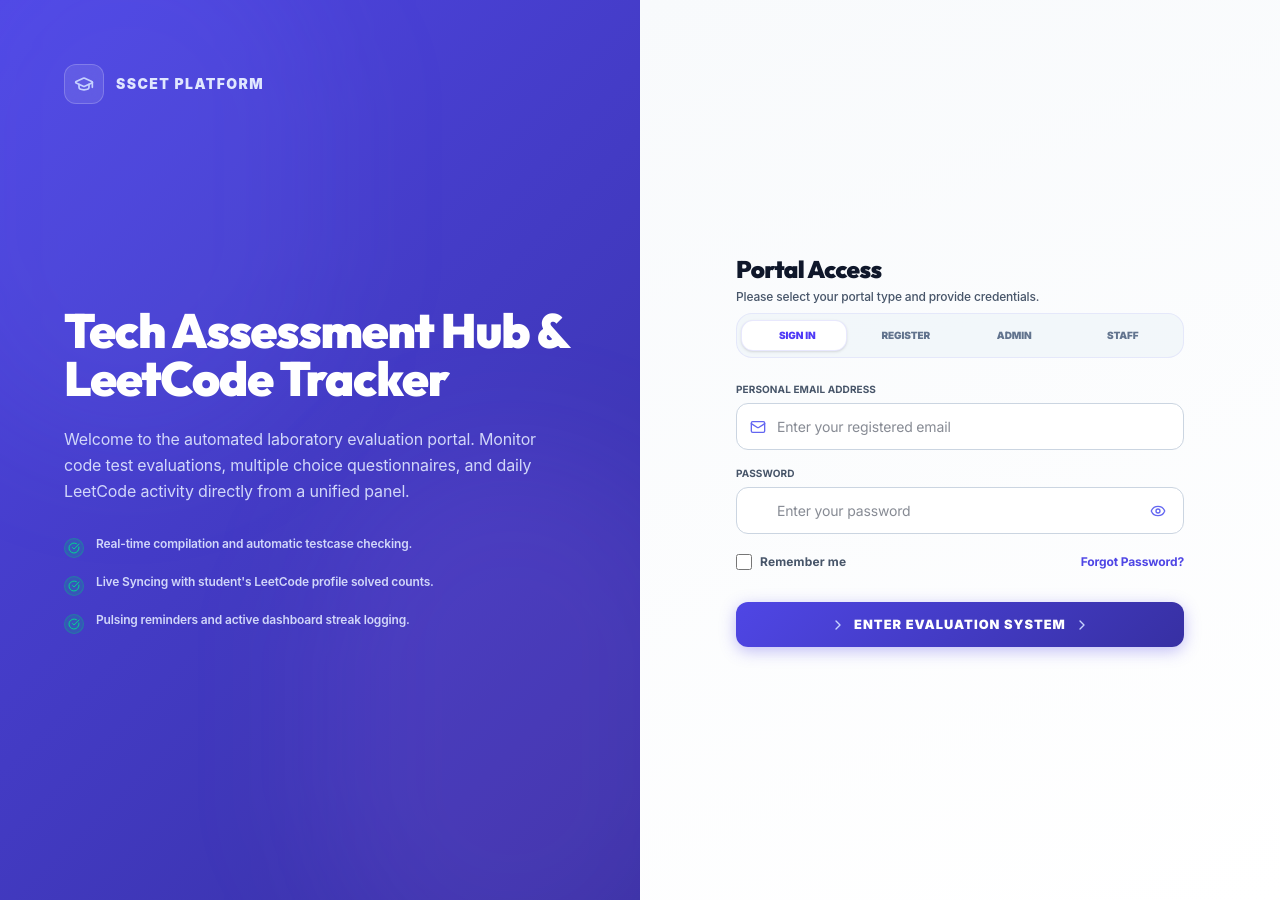
Test: LoginPage — Tab Navigation and Rendering › switches to Admin tab when clicked
Click the button "Admin".
click(1014, 336)  # box [960,320,1068,351]
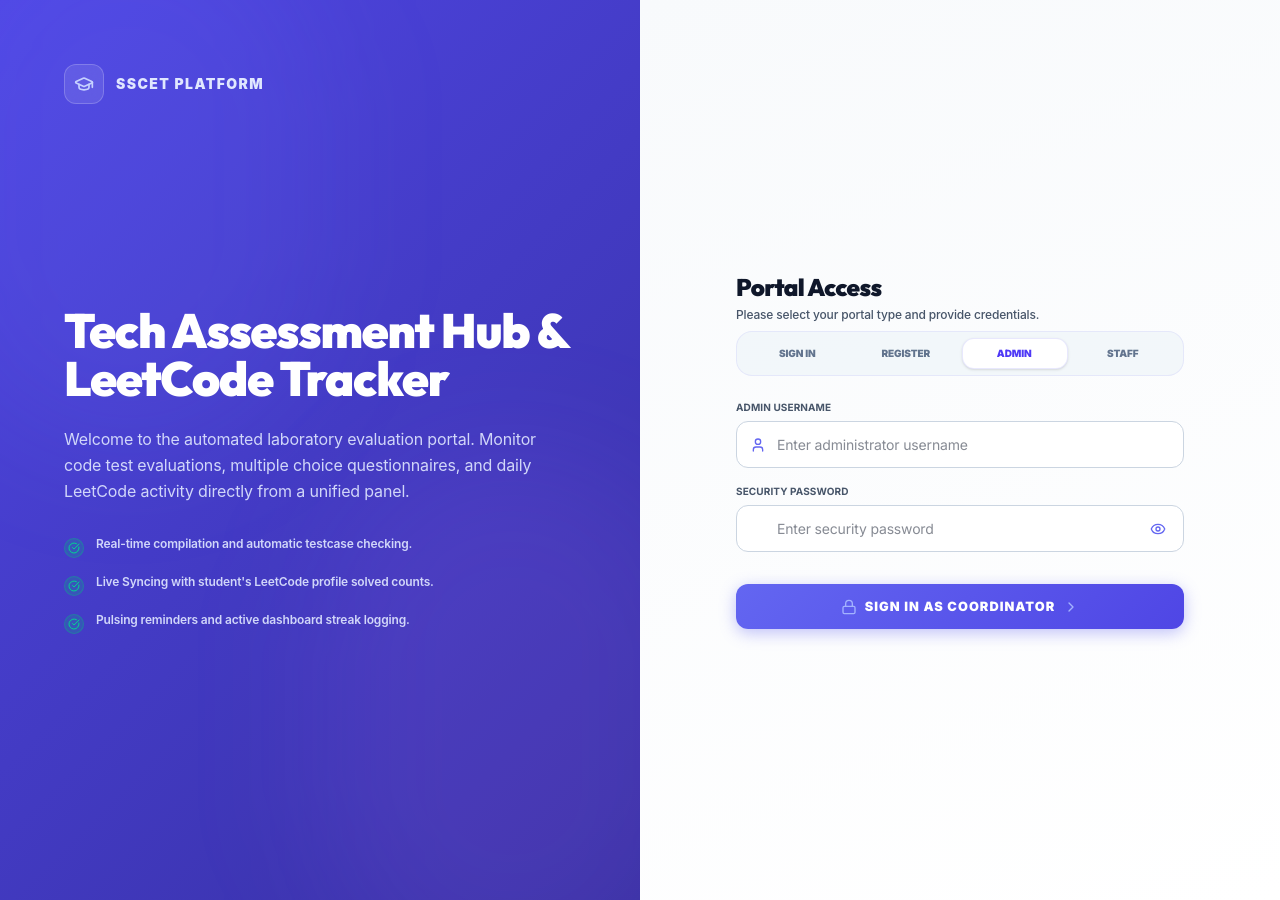
Now the field with placeholder "Enter administrator username" is shown, box [736,421,1184,468]
